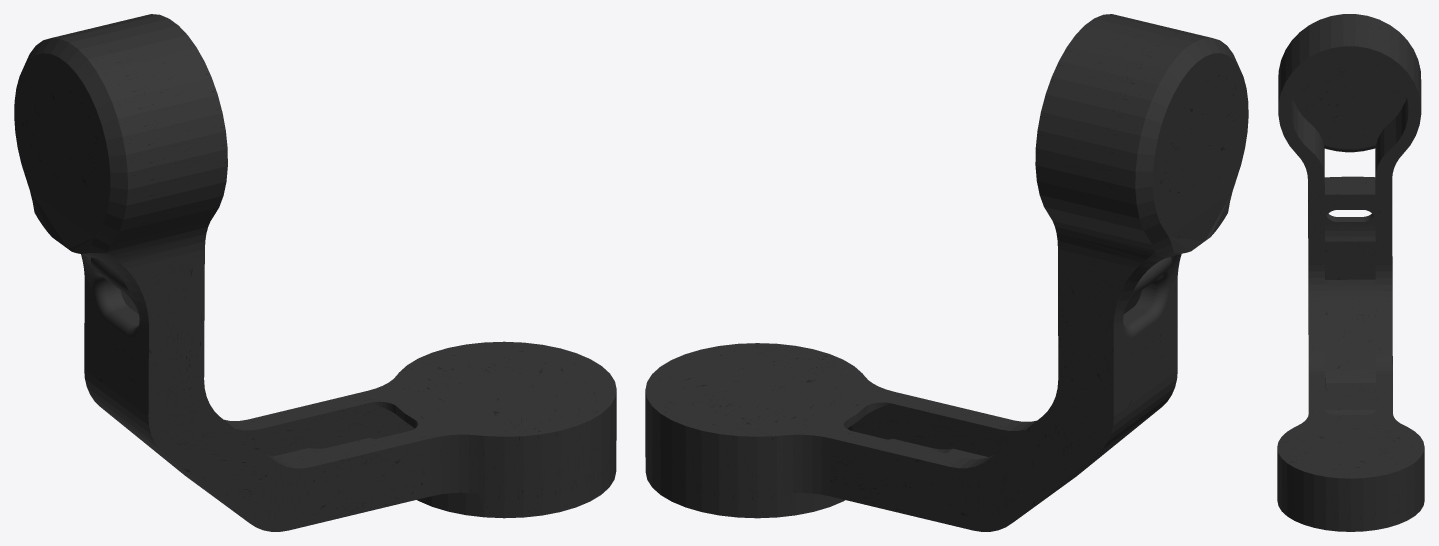
The model's file is gimbal_pan.dae.
3 renders of one model, left to right at view 1: azimuth 30°, elevation 25°; view 2: azimuth 150°, elevation 25°; view 3: azimuth 270°, elevation 25°, orthographic. The views are drawn at different scales.
Parts seen in each view (by area): view 1: gimbal_parts - E02-023-102 GIMBAL PAN-1.STL; view 2: gimbal_parts - E02-023-102 GIMBAL PAN-1.STL; view 3: gimbal_parts - E02-023-102 GIMBAL PAN-1.STL.
Boxes of the visible parts, bbox=[...] form: gimbal_parts - E02-023-102 GIMBAL PAN-1.STL: bbox=[14, 14, 616, 531]; gimbal_parts - E02-023-102 GIMBAL PAN-1.STL: bbox=[645, 14, 1248, 531]; gimbal_parts - E02-023-102 GIMBAL PAN-1.STL: bbox=[1277, 14, 1424, 531].
Bounding box in the file's own units: 0.0973 × 0.035 × 0.0914.
1 material, 1 textured.
